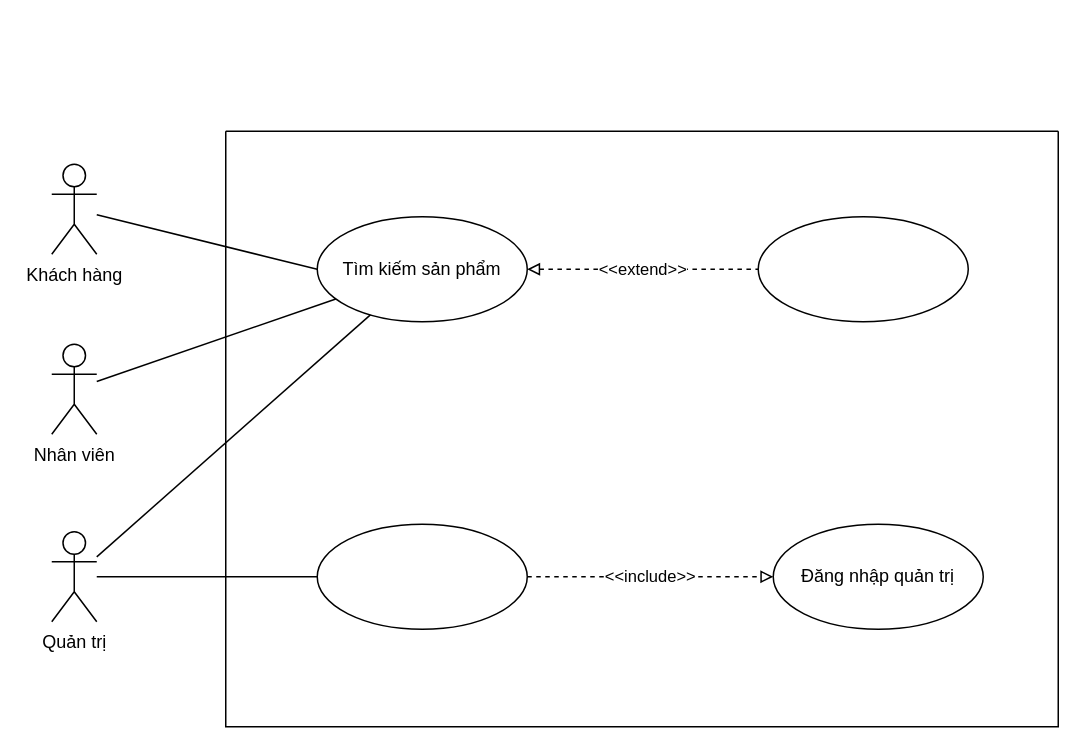
This 1085x753 diagram has some shape labels left out. Each missing label, with the centre of its shape:
Lọc sản phẩm: the point at 862,268
Tìm kiếm dữ liệu hệ thống: the point at 421,576
